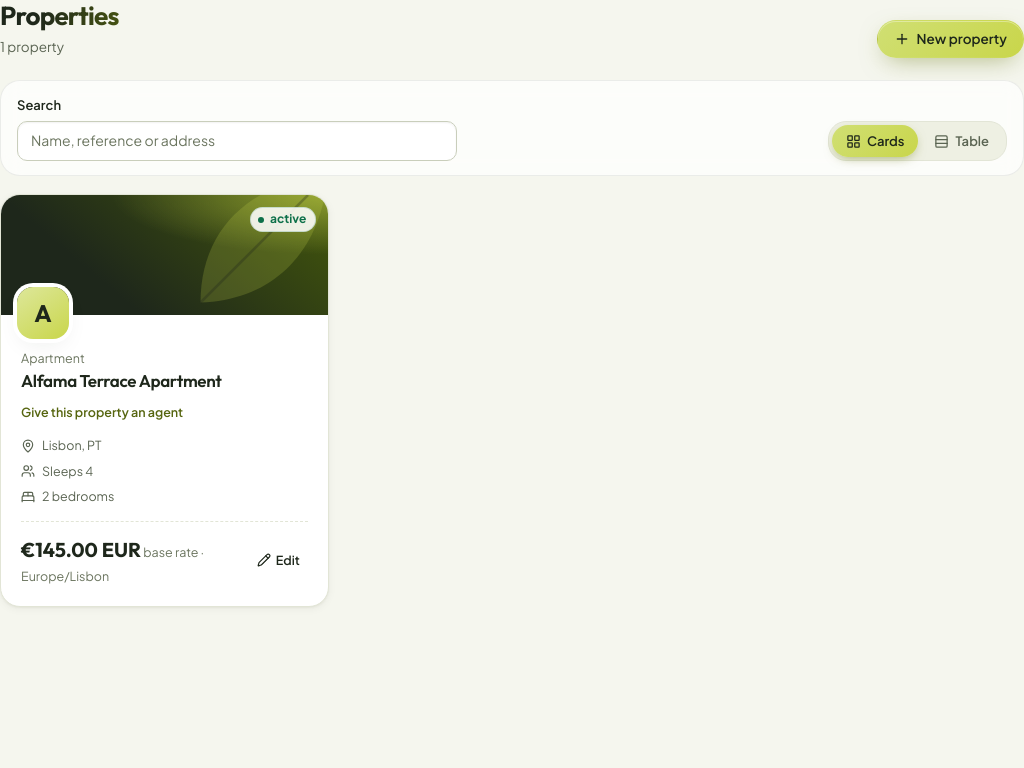
the fields a listing actually needs › waits for the full record before seeding the edit form
Click the button "Edit". click: [278, 560]
box: [248,545,308,575]
(page scrolled)
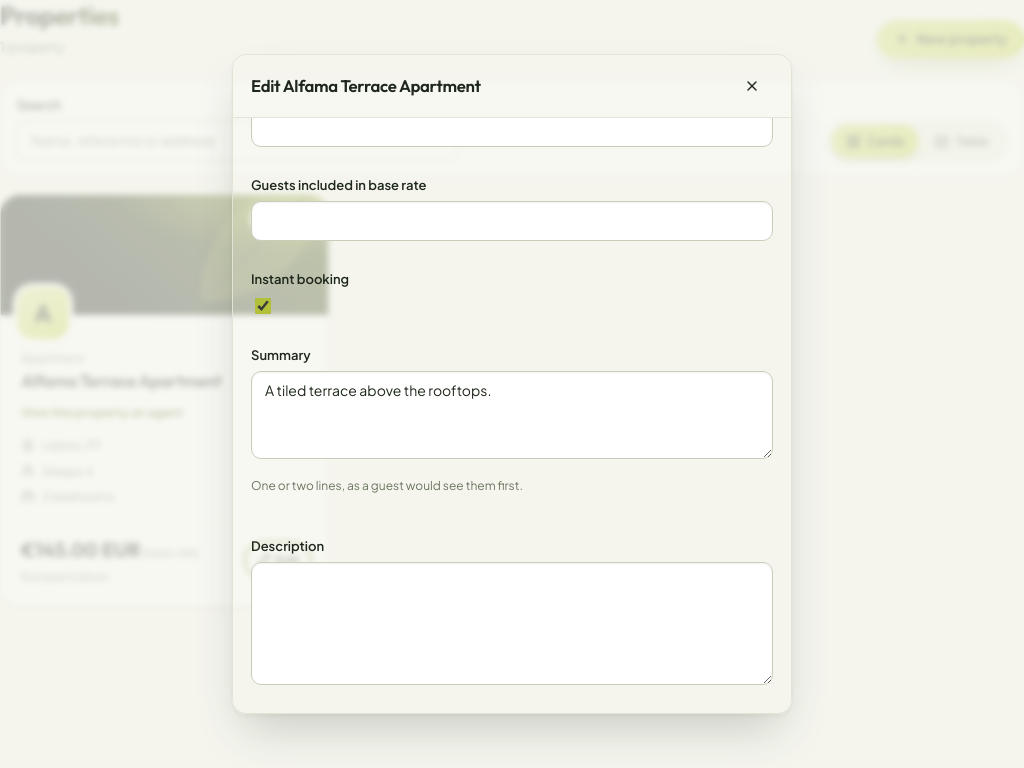
Expected: the text box labelled "Summary" holds "A tiled terrace above the rooftops.", [251,371,773,459]
